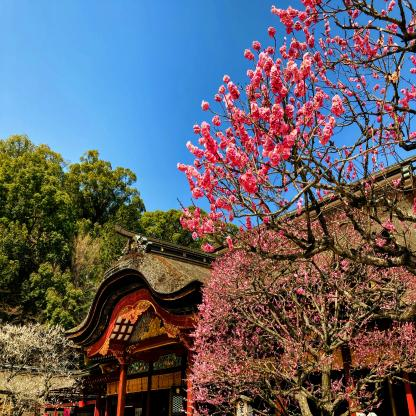Ume: (176, 0, 416, 254), (175, 216, 416, 416), (0, 322, 85, 416)
